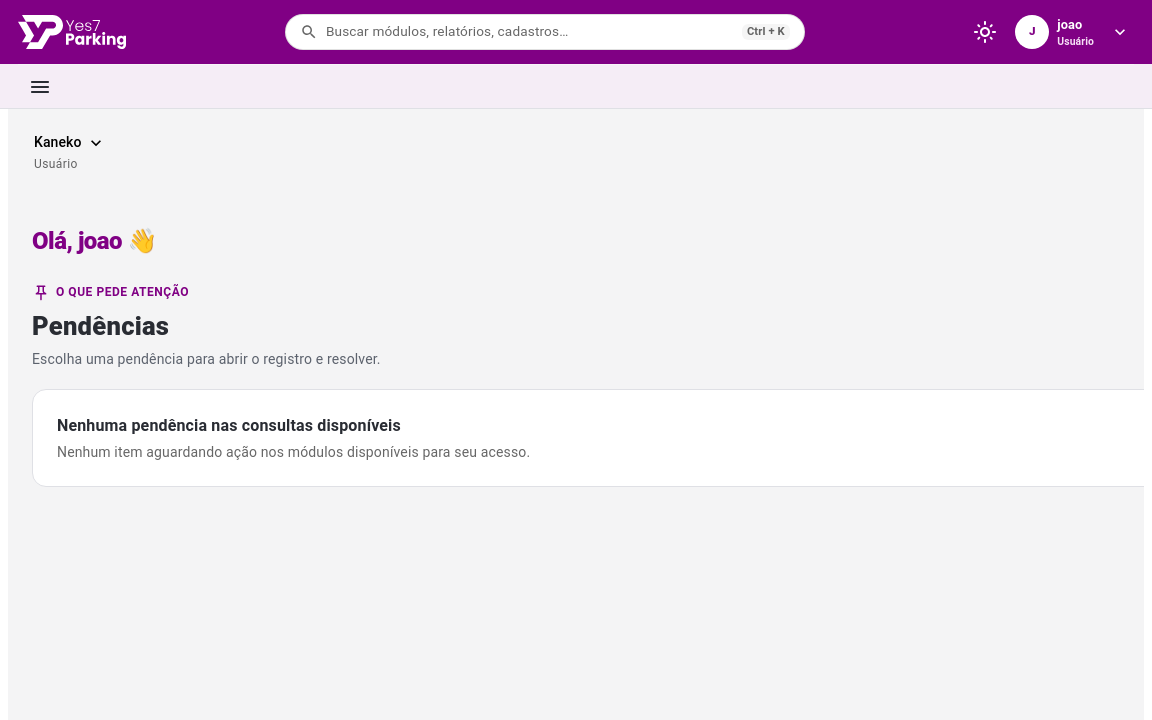
Scenario: home do Hub › menu superior continua navegável (mobile=true)
Click the button named "Abrir áreas e processos" at coordinates (40, 86), box [18,64,62,108]
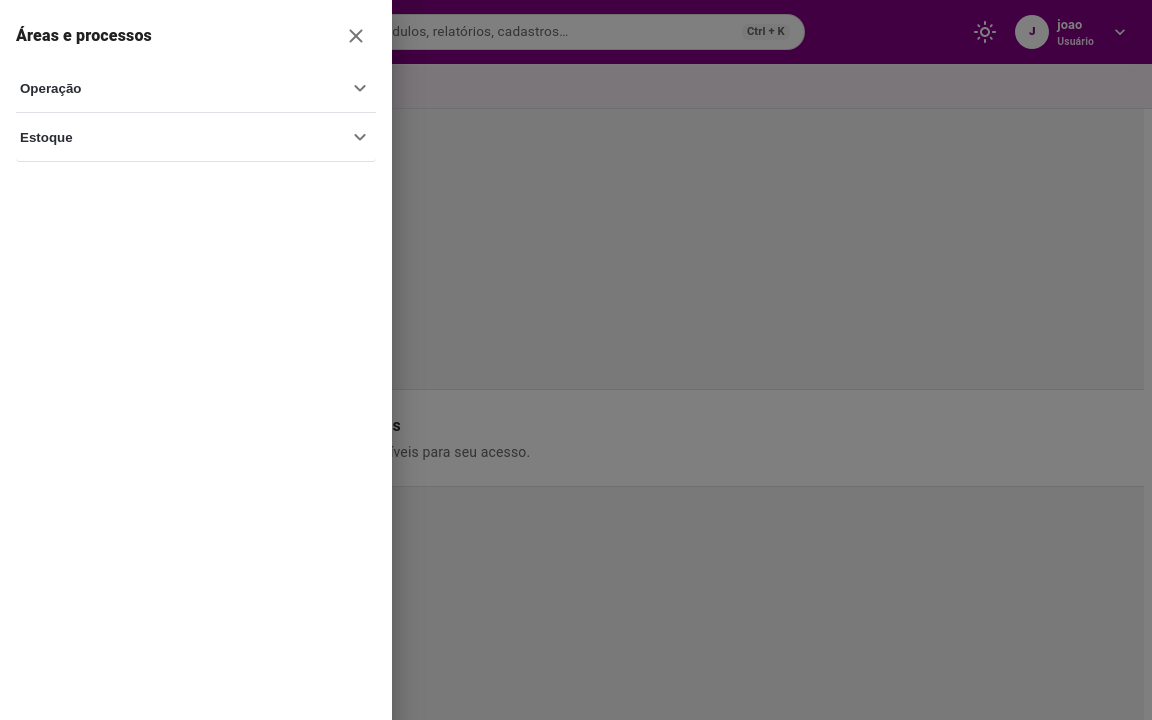
Click the button "Estoque" at coordinates (46, 137), box [16,113,376,161]
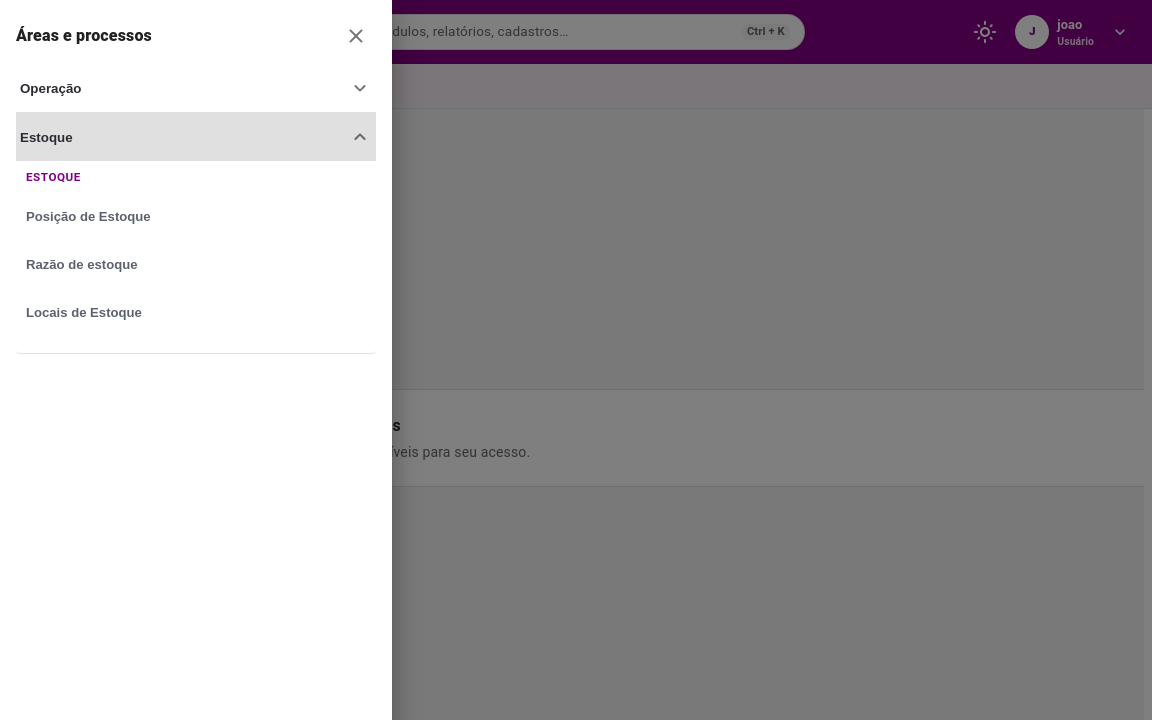
Click the link "Posição de Estoque" at coordinates (88, 216), box [26,209,151,224]
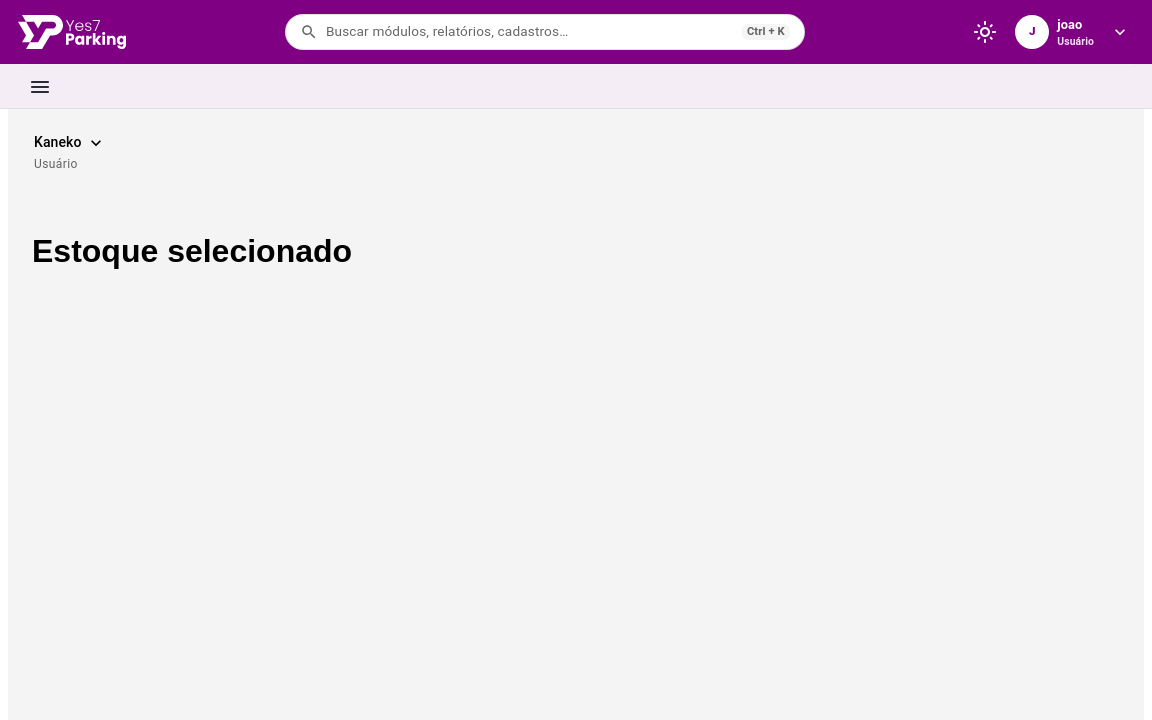
expect the heading "Estoque selecionado" is shown: met, box [32,232,352,268]
